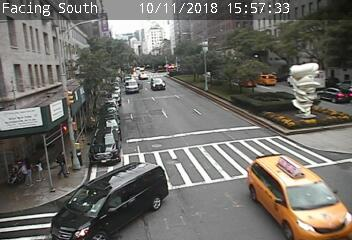car: (51, 162, 168, 239), (248, 155, 352, 239), (125, 80, 138, 94), (151, 78, 165, 90), (138, 73, 148, 80)
